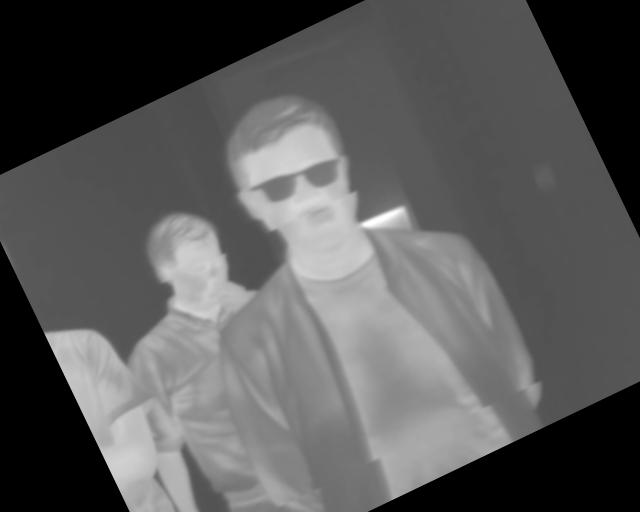face: (204, 76, 378, 268), (131, 197, 248, 326)
